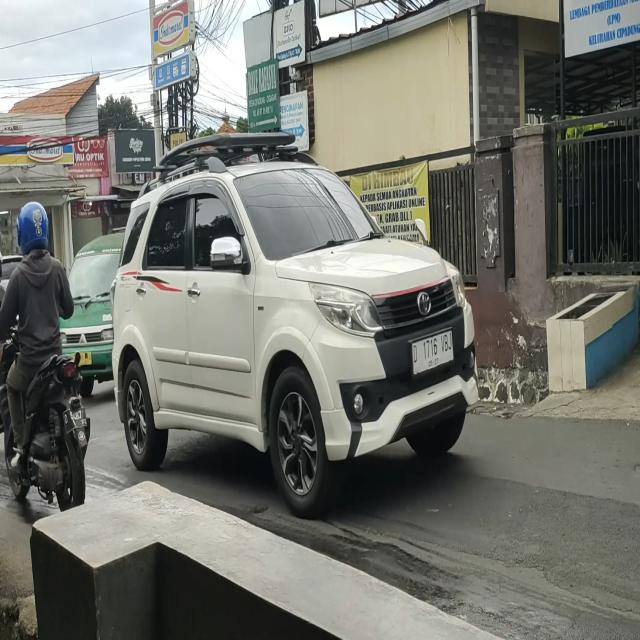helmet: (18, 200, 52, 255)
